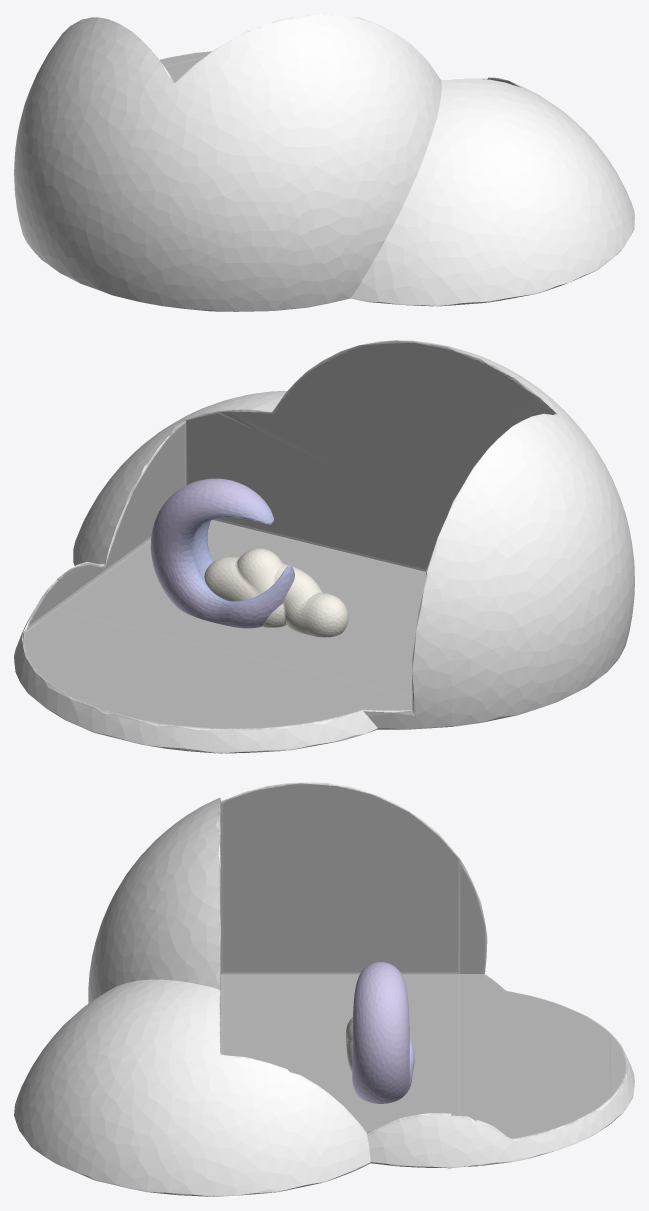
Rendered from cafe.obj.
3 renders of one model, top to bottom at view 1: azimuth 30°, elevation 25°; view 2: azimuth 150°, elevation 25°; view 3: azimuth 270°, elevation 25°, orthographic. The views are drawn at different scales.
Visible parts, largest first — view 1: model_0; view 2: model_0, model_2, model_1; view 3: model_0, model_2.
Part boxes in pixels (left/top/right/bottom): model_0: left=14, top=14, right=634, bottom=311; model_0: left=14, top=340, right=634, bottom=753; model_2: left=150, top=478, right=294, bottom=628; model_1: left=204, top=548, right=348, bottom=637; model_0: left=14, top=782, right=634, bottom=1196; model_2: left=352, top=962, right=414, bottom=1103.
Size of the model in its own units: 1862 by 810 by 1993.
3 materials, 3 textured.
